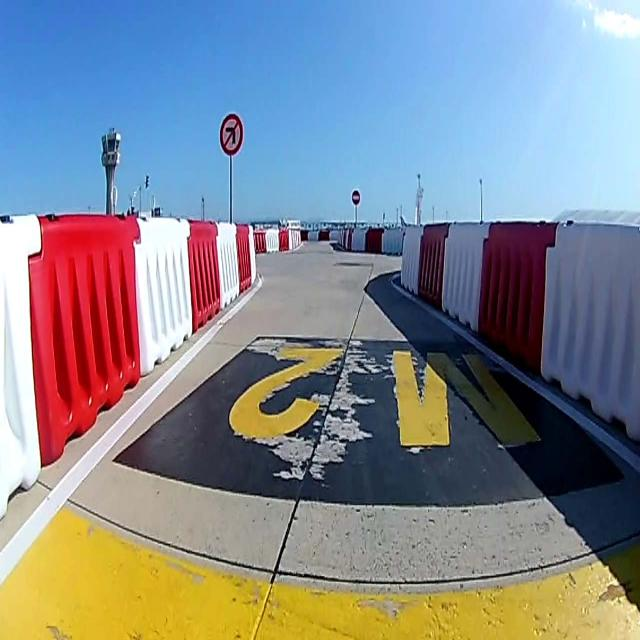girisyok: (351, 190, 361, 206)
soladonulmez: (220, 113, 244, 155)
